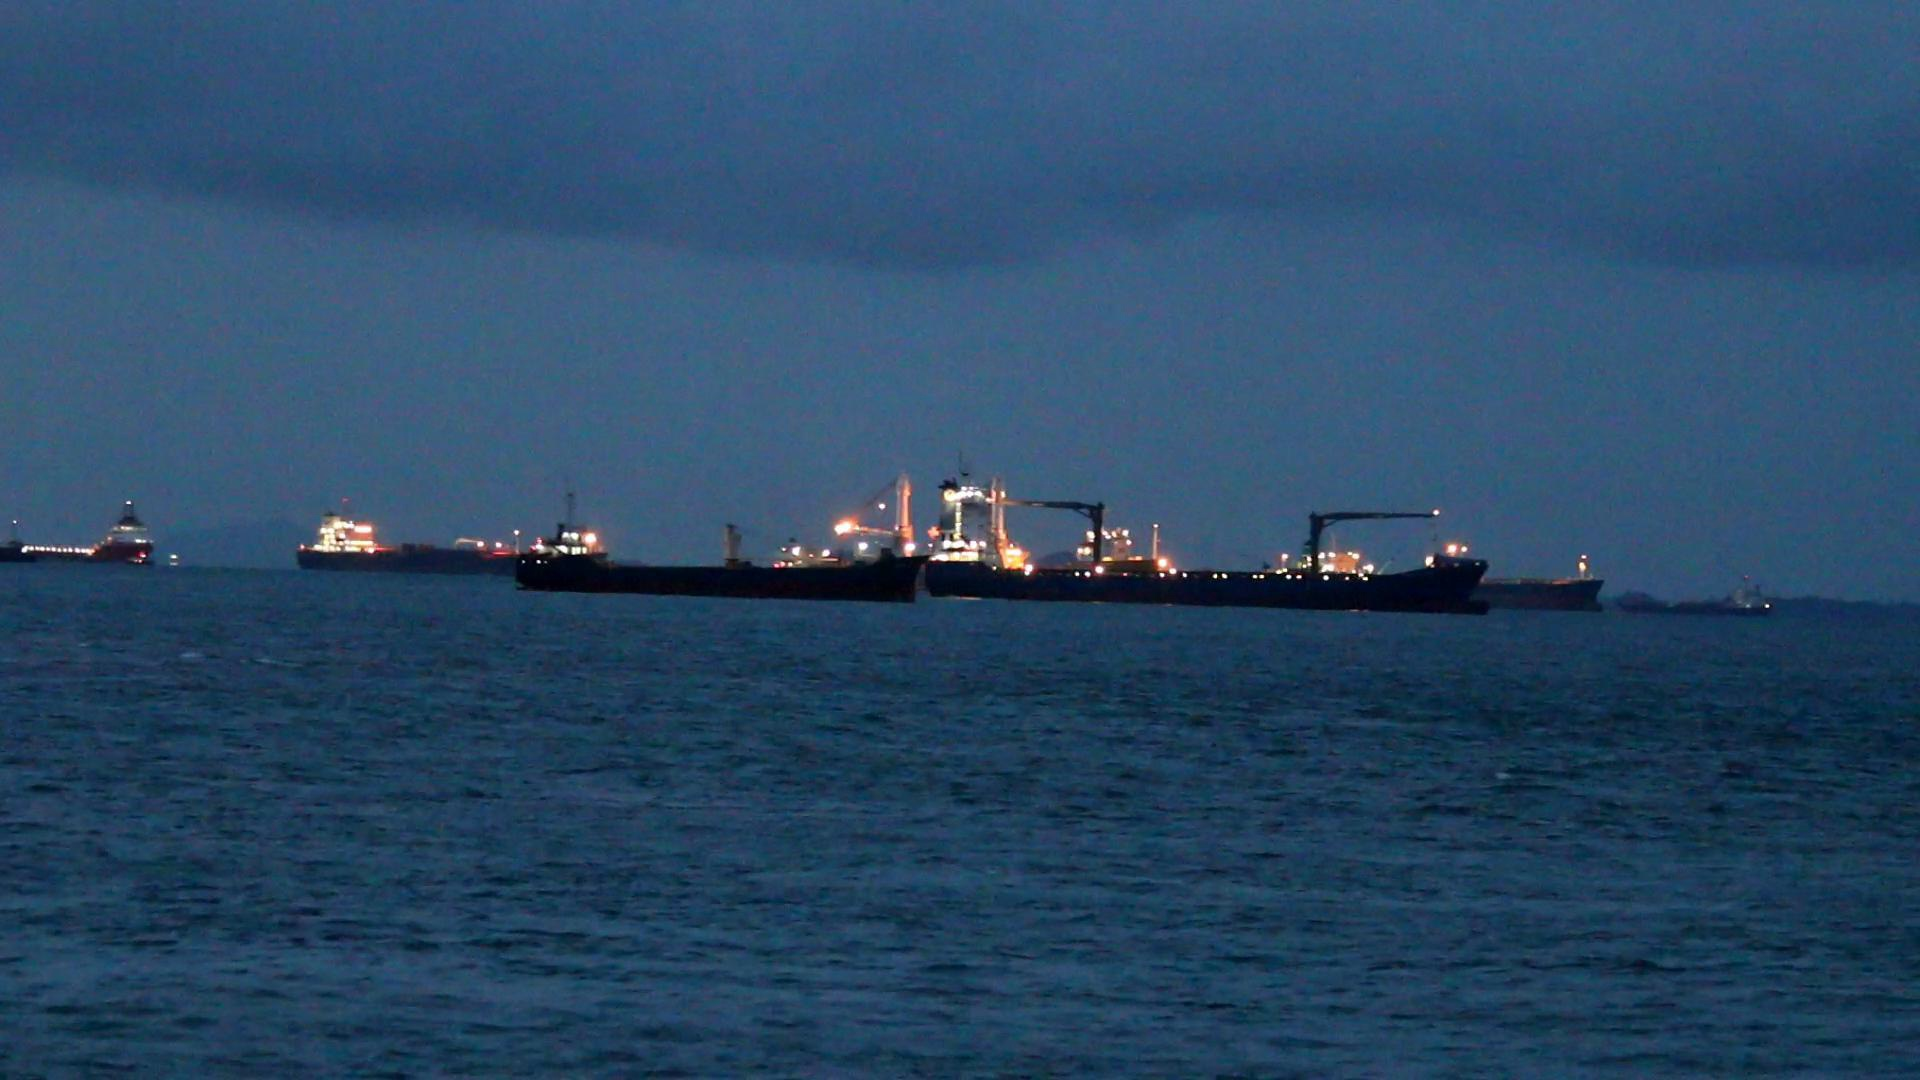Container Ship: (922, 472, 1490, 615), (510, 471, 922, 600), (293, 508, 512, 575), (4, 493, 154, 568), (1478, 549, 1605, 615), (1614, 578, 1779, 621), (123, 550, 158, 571)
